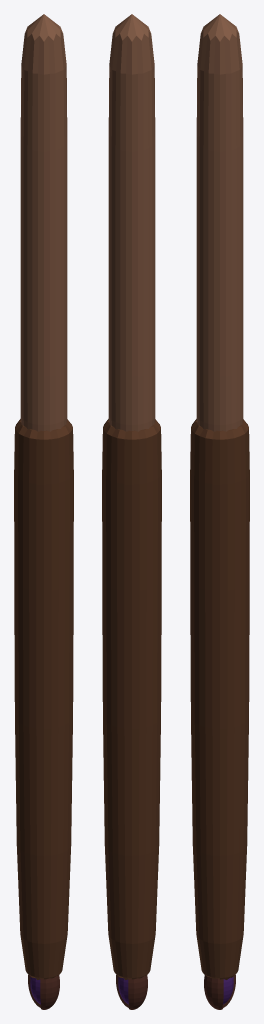
File: Wand 17.glb
3 renders of one model, left to right at view 1: azimuth 30°, elevation 25°; view 2: azimuth 210°, elevation 25°; view 3: azimuth 330°, elevation 25°, orthographic.
Visible parts, largest first — view 1: GeneratedWand; view 2: GeneratedWand; view 3: GeneratedWand.
Part boxes in pixels (box(x1,y1,x2,y2)): GeneratedWand: box(14, 14, 73, 1009); GeneratedWand: box(102, 14, 161, 1009); GeneratedWand: box(190, 14, 249, 1009).
Size of the model in its own units: 0.0273 by 0.5016 by 0.0273.
